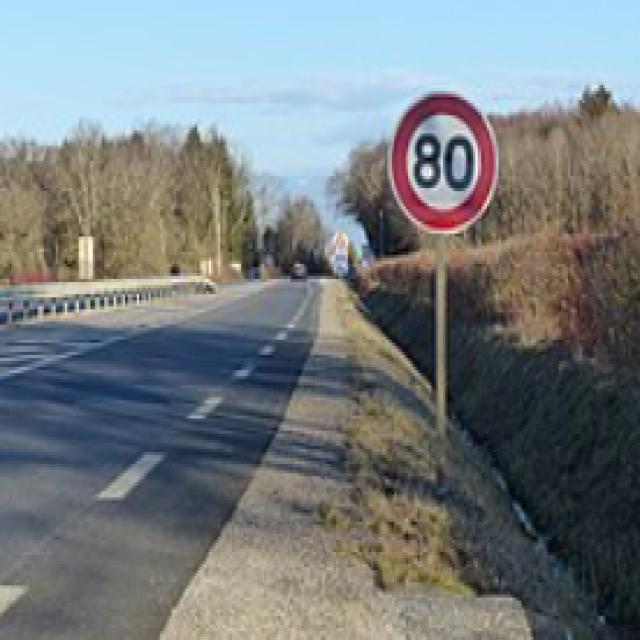speed_80: (388, 91, 502, 236)
